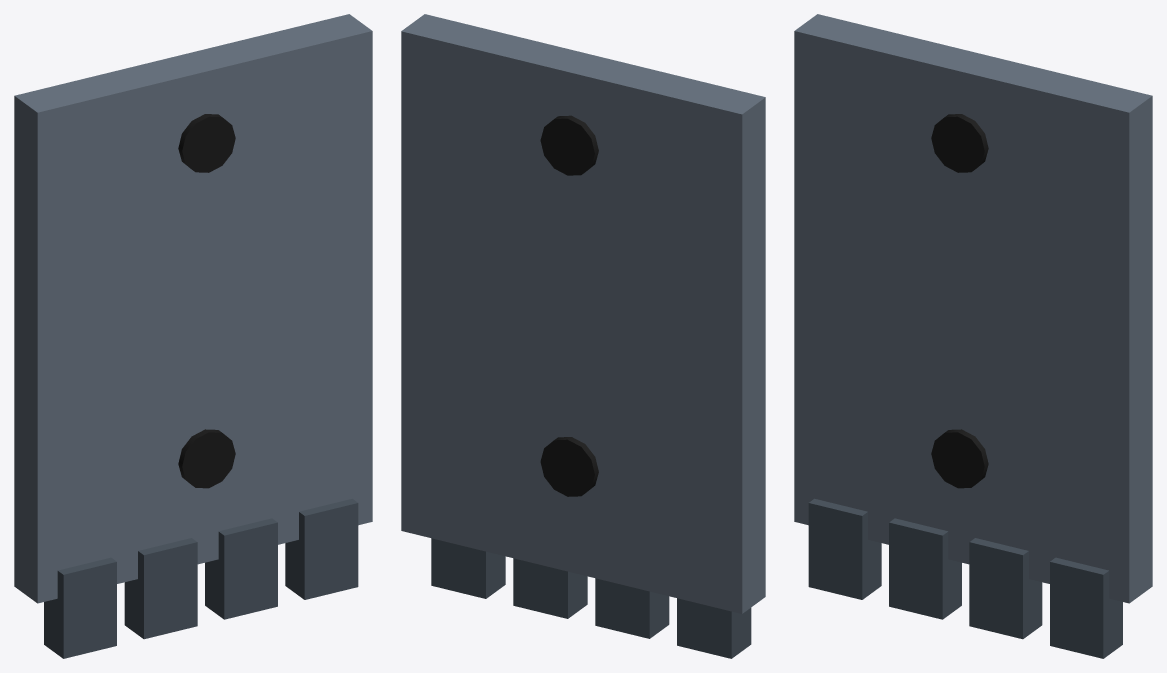
Rendered from scraper.glb.
3 views of the same model, side by side, from view 1: azimuth 30°, elevation 25°; view 2: azimuth 150°, elevation 25°; view 3: azimuth 330°, elevation 25° (orthographic).
Size of the model in its own units: 0.5 by 0.78 by 0.085.
